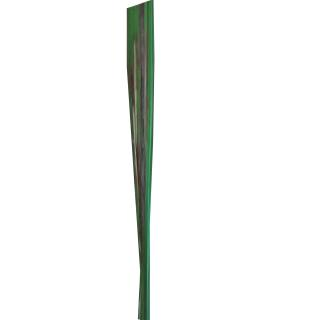Hawar-Daun: (130, 5, 152, 254)
